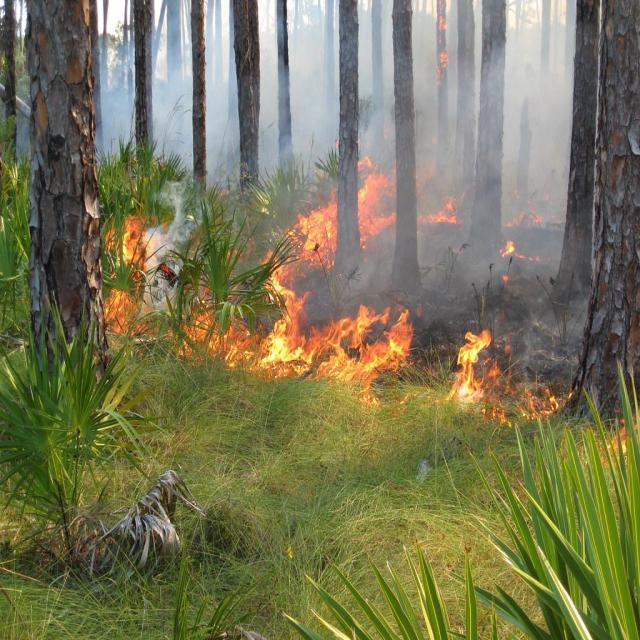Fire: (180, 294, 414, 408), (453, 332, 562, 424), (105, 214, 152, 332), (356, 151, 394, 240), (293, 196, 336, 272), (502, 182, 558, 228), (421, 180, 463, 224), (260, 246, 300, 291), (431, 3, 452, 82), (604, 420, 640, 464), (497, 241, 547, 267)
Smoke: (457, 2, 576, 192), (257, 0, 339, 191), (153, 0, 196, 241), (341, 243, 498, 290), (206, 2, 240, 188), (356, 0, 396, 154), (101, 0, 134, 156), (412, 85, 467, 178)
